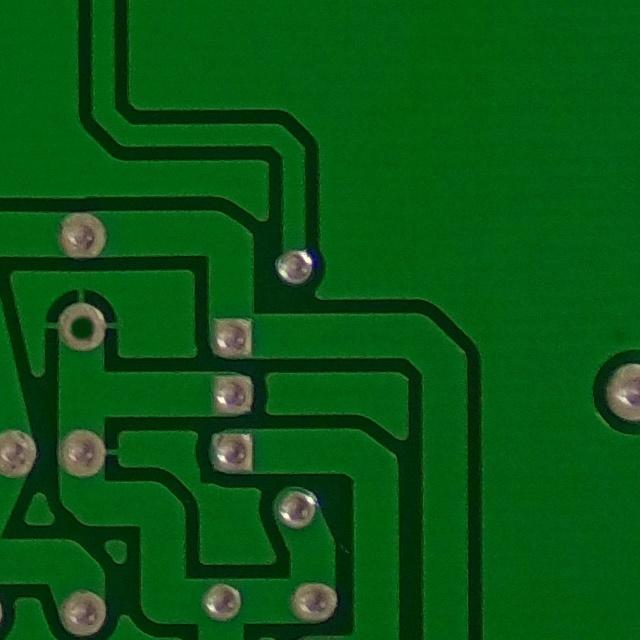missing_hole: (53, 295, 124, 359)
